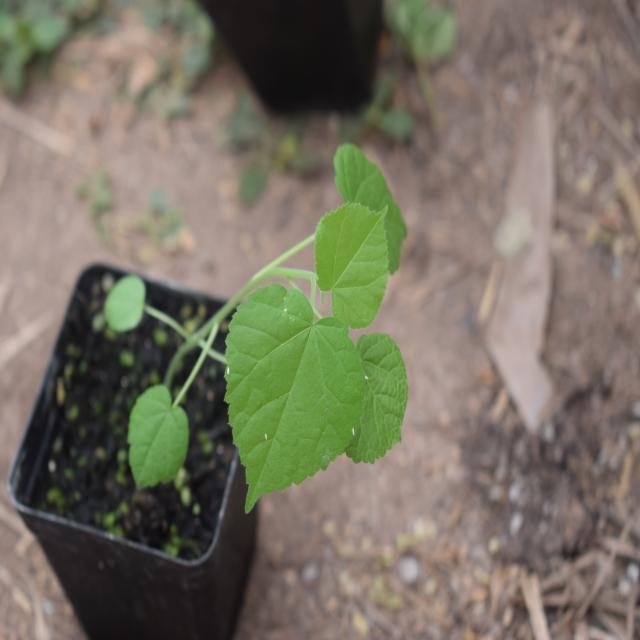abutilon theophrasti: (75, 128, 418, 504)
